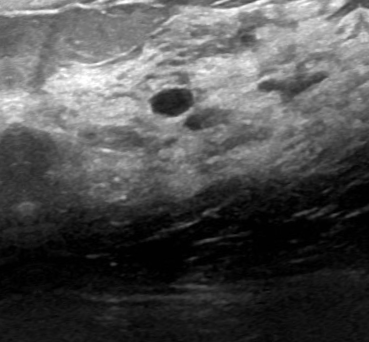Benign: (145, 82, 198, 125)
